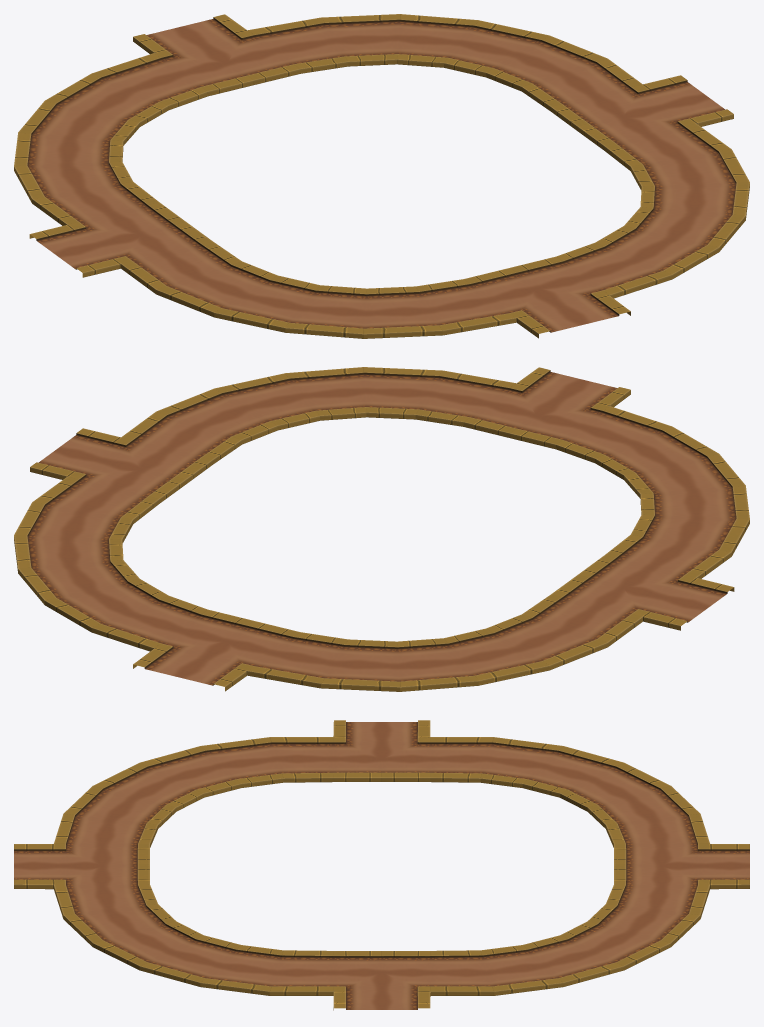
The model's file is RoadPiece_09.FBX.
3 views of the same model, one above another, from view 1: azimuth 30°, elevation 25°; view 2: azimuth 150°, elevation 25°; view 3: azimuth 270°, elevation 25° (orthographic). The views are drawn at different scales.
Parts seen in each view (by area): view 1: RoadPiece_09; view 2: RoadPiece_09; view 3: RoadPiece_09.
Boxes of the visible parts, x1,y1,x2,y2 form: RoadPiece_09: (14, 14, 749, 338); RoadPiece_09: (14, 367, 749, 691); RoadPiece_09: (14, 720, 749, 1010).
Bounding box in the file's own units: 11.55 × 0.0796 × 12.47.
